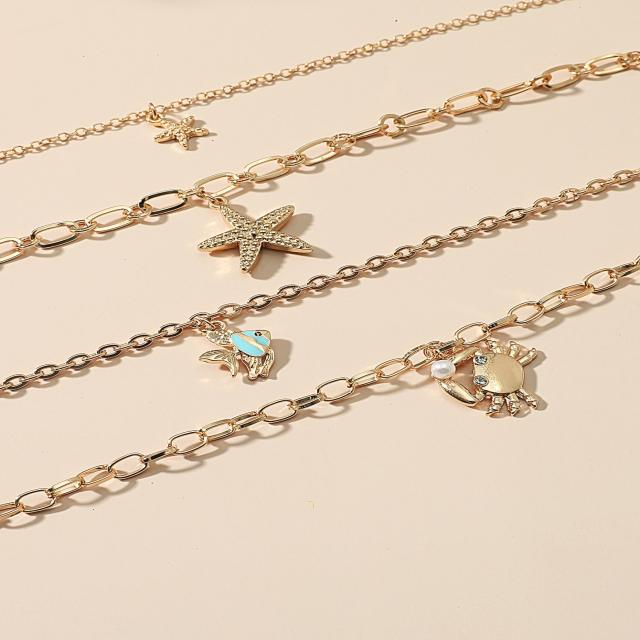bracelet: (0, 30, 640, 500)
